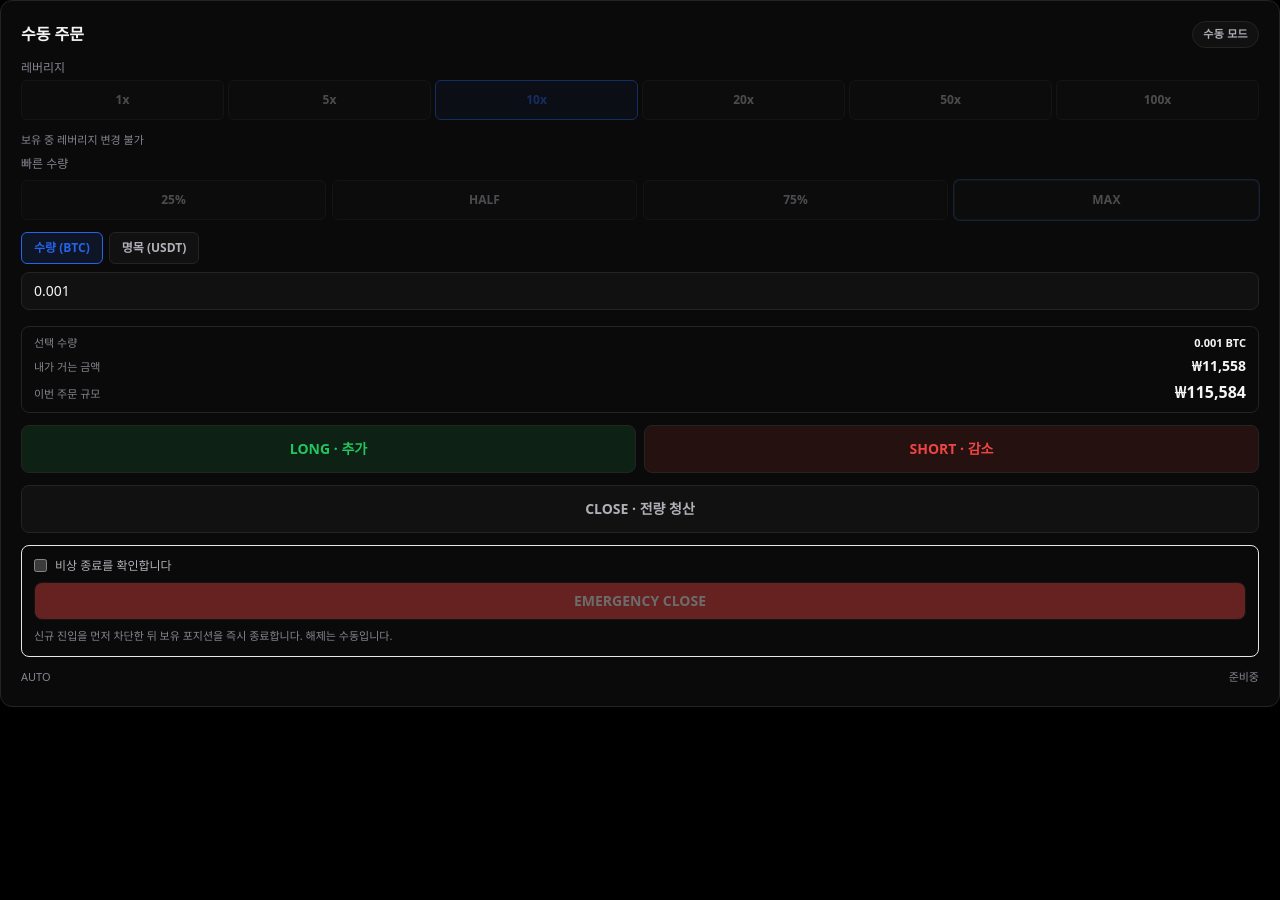
Test case: order ticket › requires the confirmation tick before EMERGENCY CLOSE can be pressed
Expected: the button with test id "emergency-button" is disabled, [34,582,1246,620]
Click the checkbox with test id "emergency-confirm".
click(40, 566)  # box [34,559,47,572]
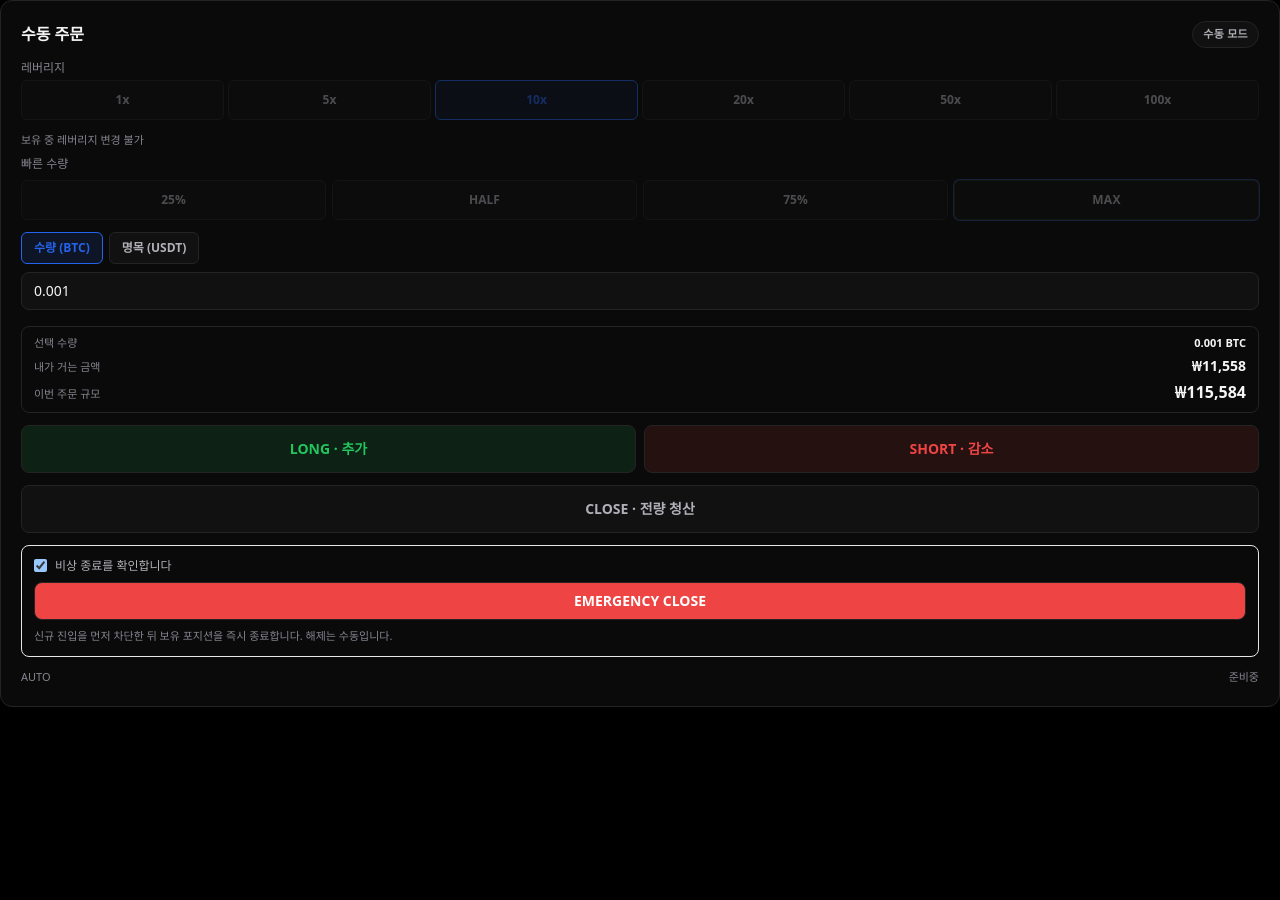
Result: the button with test id "emergency-button" is enabled at [34,582,1246,620]
